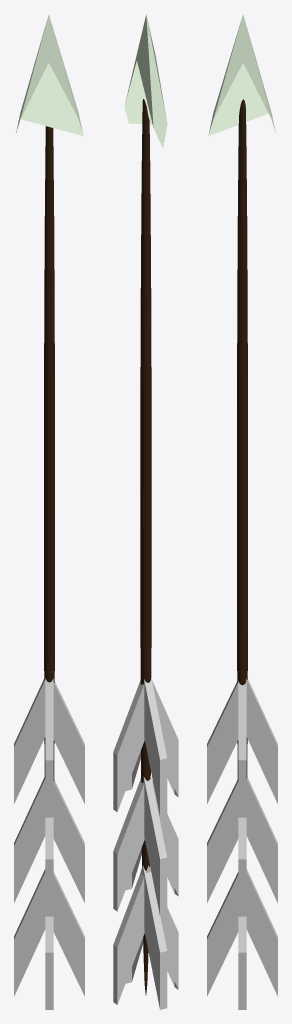
Rendered from Arrow.fbx.
3 renders of one model, left to right at view 1: azimuth 90°, elevation 25°; view 2: azimuth 210°, elevation 25°; view 3: azimuth 270°, elevation 25°, orthographic.
Visible parts, largest first — view 1: Cube.008, Cube.009, Cube.010, Cube.011, Cube.017, Cube.012, Cube.013, Cube.014; view 2: Cube.008, Cube.012, Cube.013, Cube.014, Cube.017, Cube.009, Cube.010, Cube.011; view 3: Cube.008, Cube.009, Cube.011, Cube.010, Cube.017, Cube.012, Cube.013, Cube.014.
Boxes of the visible parts, bbox=[...] form: Cube.008: bbox=[44, 126, 54, 780]; Cube.009: bbox=[14, 869, 84, 996]; Cube.010: bbox=[14, 777, 84, 902]; Cube.011: bbox=[14, 678, 84, 803]; Cube.017: bbox=[15, 14, 83, 135]; Cube.012: bbox=[45, 678, 53, 817]; Cube.013: bbox=[45, 817, 53, 916]; Cube.014: bbox=[45, 916, 53, 1009]; Cube.008: bbox=[140, 99, 151, 995]; Cube.012: bbox=[113, 678, 178, 812]; Cube.013: bbox=[113, 776, 178, 911]; Cube.014: bbox=[113, 865, 178, 1004]; Cube.017: bbox=[124, 14, 167, 147]; Cube.009: bbox=[125, 865, 167, 1009]; Cube.010: bbox=[126, 776, 167, 916]; Cube.011: bbox=[125, 679, 167, 817]; Cube.008: bbox=[237, 99, 247, 780]; Cube.009: bbox=[207, 869, 277, 996]; Cube.011: bbox=[207, 678, 277, 803]; Cube.010: bbox=[207, 777, 277, 902]; Cube.017: bbox=[208, 14, 276, 135]; Cube.012: bbox=[238, 681, 246, 817]; Cube.013: bbox=[238, 817, 246, 916]; Cube.014: bbox=[238, 916, 246, 1009].
Bounding box in the file's own units: 35.96 × 551 × 35.96.
